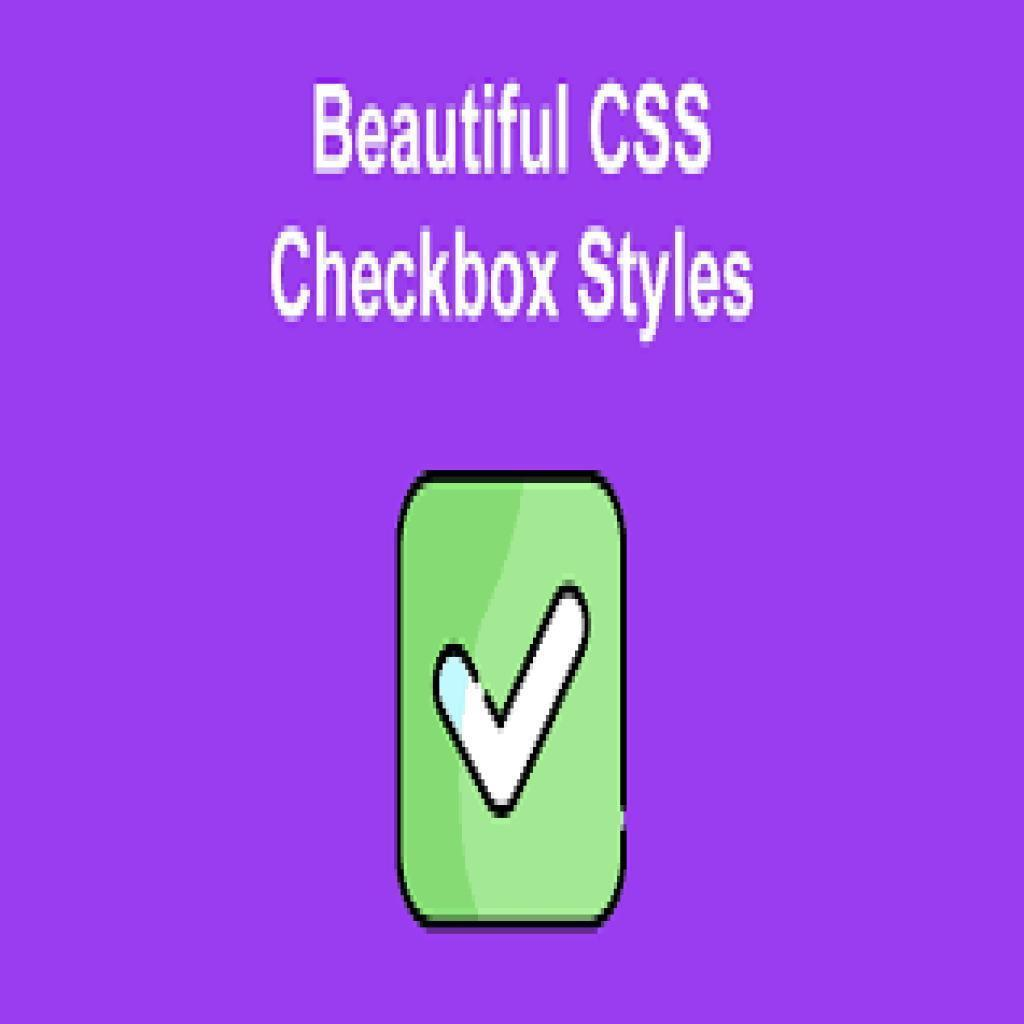checkbox: (394, 468, 626, 934)
